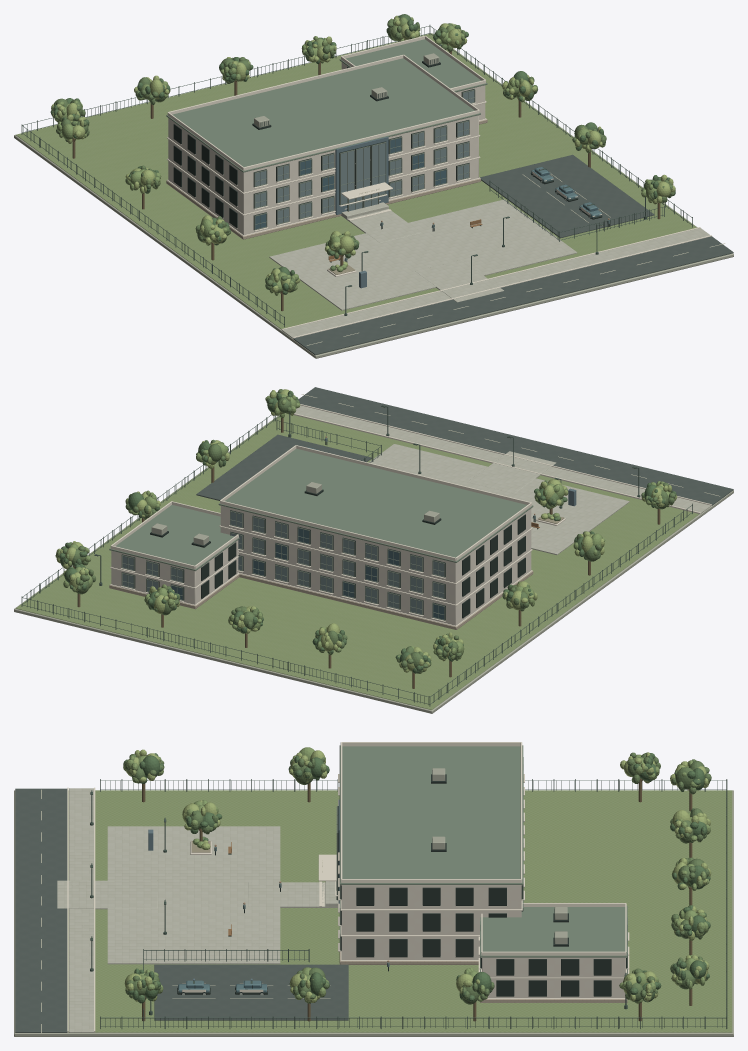
Rendered from police-connected.glb.
3 renders of one model, top to bottom at view 1: azimuth 30°, elevation 25°; view 2: azimuth 150°, elevation 25°; view 3: azimuth 270°, elevation 25°, orthographic. The views are drawn at different scales.
Visible parts, largest first — view 1: 材质批次_grass, 材质批次_plaza_paving, 材质批次_sage_metal_roof, 材质批次_asphalt, 材质批次_limestone, 材质批次_warm_cream_trim, 材质批次_poi_window_lit, 材质批次_street_metal, 材质批次_leaf_2, 材质批次_poi_service_concrete, 材质批次_recess_shadow, 材质批次_window_frames (+7 smaller); view 2: 材质批次_grass, 材质批次_sage_metal_roof, 材质批次_limestone, 材质批次_plaza_paving, 材质批次_asphalt, 材质批次_warm_cream_trim, 材质批次_street_metal, 材质批次_recess_shadow, 材质批次_poi_window_lit, 材质批次_poi_service_concrete, 材质批次_window_frames, 材质批次_leaf_2 (+6 smaller); view 3: 材质批次_grass, 材质批次_plaza_paving, 材质批次_sage_metal_roof, 材质批次_asphalt, 材质批次_limestone, 材质批次_warm_cream_trim, 材质批次_recess_shadow, 材质批次_street_metal, 材质批次_poi_service_concrete, 材质批次_leaf_1, 材质批次_leaf_3, 材质批次_leaf_2 (+5 smaller).
Part boxes in pixels (left/top/right/bottom): 材质批次_grass: left=16, top=33, right=696, bottom=329; 材质批次_plaza_paving: left=269, top=199, right=709, bottom=338; 材质批次_sage_metal_roof: left=166, top=39, right=487, bottom=172; 材质批次_asphalt: left=293, top=154, right=733, bottom=355; 材质批次_limestone: left=168, top=62, right=485, bottom=276; 材质批次_warm_cream_trim: left=167, top=35, right=711, bottom=338; 材质批次_poi_window_lit: left=255, top=90, right=474, bottom=223; 材质批次_street_metal: left=21, top=25, right=692, bottom=327; 材质批次_leaf_2: left=51, top=15, right=675, bottom=292; 材质批次_poi_service_concrete: left=14, top=33, right=733, bottom=358; 材质批次_recess_shadow: left=173, top=61, right=609, bottom=262; 材质批次_window_frames: left=254, top=89, right=475, bottom=230; 材质批次_grass: left=16, top=413, right=698, bottom=709; 材质批次_sage_metal_roof: left=109, top=448, right=533, bottom=570; 材质批次_limestone: left=111, top=506, right=565, bottom=625; 材质批次_plaza_paving: left=295, top=405, right=710, bottom=554; 材质批次_asphalt: left=196, top=387, right=733, bottom=505; 材质批次_warm_cream_trim: left=110, top=404, right=711, bottom=626; 材质批次_street_metal: left=21, top=405, right=692, bottom=706; 材质批次_recess_shadow: left=121, top=441, right=535, bottom=620; 材质批次_poi_window_lit: left=122, top=512, right=444, bottom=614; 材质批次_poi_service_concrete: left=14, top=415, right=733, bottom=713; 材质批次_window_frames: left=121, top=511, right=445, bottom=620; 材质批次_leaf_2: left=55, top=389, right=677, bottom=672; 材质批次_grass: left=68, top=790, right=732, bottom=1032; 材质批次_plaza_paving: left=57, top=788, right=338, bottom=1032; 材质批次_sage_metal_roof: left=339, top=745, right=627, bottom=957; 材质批次_asphalt: left=15, top=788, right=348, bottom=1032; 材质批次_limestone: left=190, top=841, right=625, bottom=997; 材质批次_warm_cream_trim: left=67, top=742, right=629, bottom=1032; 材质批次_recess_shadow: left=177, top=774, right=626, bottom=996; 材质批次_street_metal: left=90, top=770, right=727, bottom=1028; 材质批次_poi_service_concrete: left=14, top=768, right=733, bottom=1036; 材质批次_leaf_1: left=125, top=752, right=711, bottom=1004; 材质批次_leaf_3: left=123, top=753, right=710, bottom=1003; 材质批次_leaf_2: left=124, top=749, right=711, bottom=1002.
Bounding box in the file's own units: 80.5 × 14.55 × 100.
Materials: 29 (5 with a texture image).
